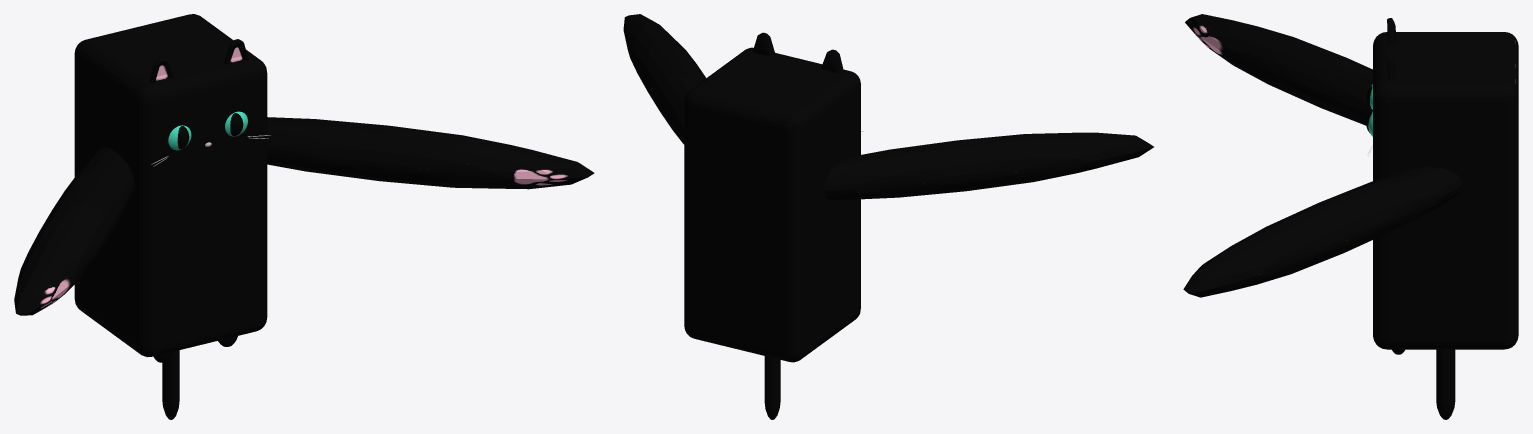
Rendered from ClipCat.fbx.
3 renders of one model, left to right at view 1: azimuth 30°, elevation 25°; view 2: azimuth 150°, elevation 25°; view 3: azimuth 270°, elevation 25°, orthographic. The views are drawn at different scales.
Visible parts, largest first — view 1: body; view 2: body; view 3: body.
Boxes of the visible parts, x1,y1,x2,y2 form: body: [14, 14, 594, 419]; body: [623, 14, 1153, 419]; body: [1183, 14, 1518, 419].
Bounding box in the file's own units: 53.37 × 34.52 × 27.4.
